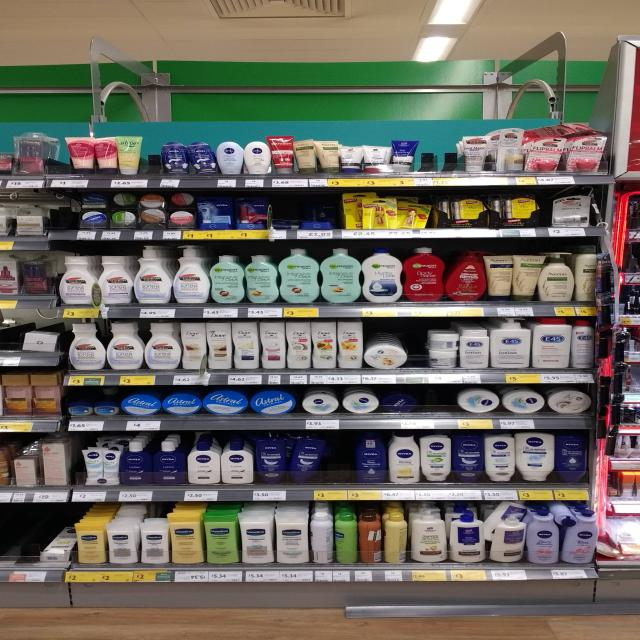void: (3, 510, 37, 581), (426, 126, 458, 186), (327, 433, 353, 499), (424, 388, 455, 428), (48, 192, 74, 238), (275, 193, 300, 239)
